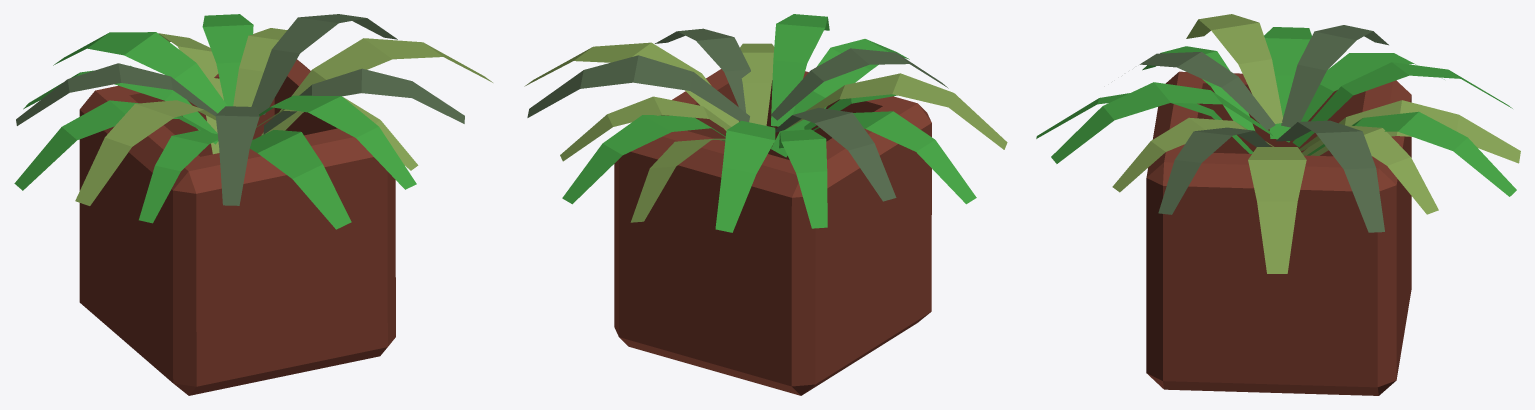
The model's file is vase_4.fbx.
The picture shows the model from 3 angles, left to right: view 1: azimuth 30°, elevation 25°; view 2: azimuth 150°, elevation 25°; view 3: azimuth 270°, elevation 25°; orthographic projection. The views are drawn at different scales.
Visible parts, largest first — view 1: Plane.076; view 2: Plane.076; view 3: Plane.076.
Boxes of the visible parts, box(x1,y1,x2,y2) form: Plane.076: box(14, 14, 492, 395); Plane.076: box(524, 14, 1007, 395); Plane.076: box(1036, 14, 1520, 395).
Size of the model in its own units: 105 by 58.71 by 94.43.
